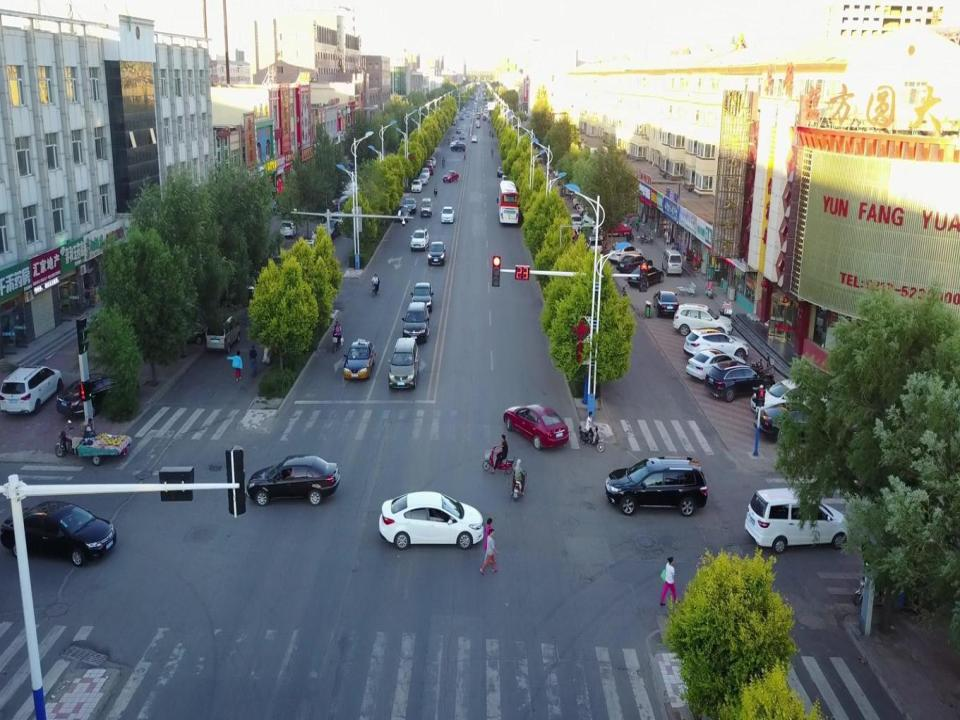bus: (497, 181, 519, 226)
car: (0, 505, 119, 568), (744, 486, 851, 550), (607, 457, 707, 517), (379, 493, 484, 549), (246, 459, 340, 505), (503, 395, 569, 450), (752, 378, 832, 422), (58, 371, 124, 420), (0, 364, 61, 415), (755, 402, 827, 441), (706, 364, 769, 404), (688, 348, 746, 385), (683, 330, 749, 362), (673, 304, 732, 337), (390, 340, 419, 388), (344, 340, 376, 381), (163, 314, 203, 346), (402, 302, 429, 343), (631, 264, 664, 289), (654, 288, 679, 319), (412, 279, 434, 314), (617, 255, 652, 276), (609, 240, 643, 261), (427, 242, 445, 267), (605, 221, 631, 237), (410, 230, 429, 251), (280, 220, 298, 239), (577, 204, 600, 217), (419, 195, 433, 216), (587, 236, 602, 255), (573, 198, 596, 209), (396, 205, 411, 221), (570, 213, 582, 233), (442, 172, 460, 185), (403, 197, 416, 214), (442, 205, 454, 222), (450, 141, 466, 151), (411, 180, 423, 193), (417, 174, 428, 186), (422, 168, 430, 180), (425, 158, 433, 169), (428, 157, 437, 166), (498, 167, 506, 177), (426, 166, 434, 175), (471, 135, 478, 143), (457, 127, 461, 135), (460, 133, 465, 139), (452, 120, 456, 125)
van: (206, 312, 240, 356), (662, 246, 682, 278)
